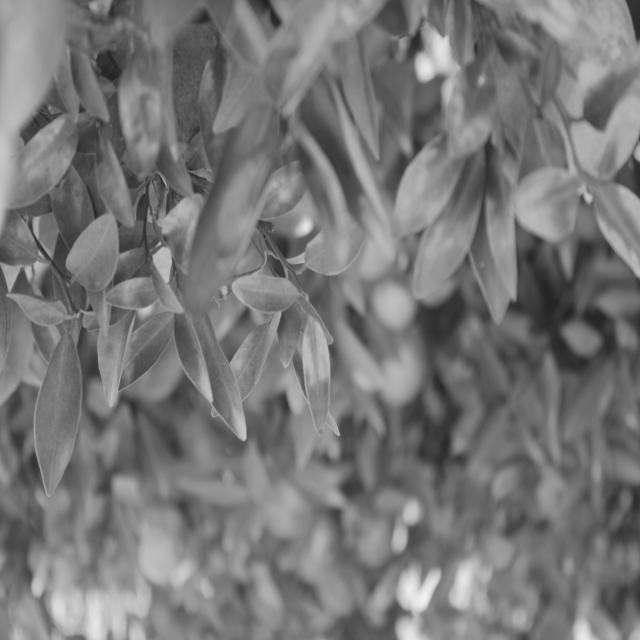greening: (395, 154, 455, 235), (445, 66, 497, 154), (514, 172, 577, 233), (300, 327, 337, 421), (239, 272, 295, 313)
